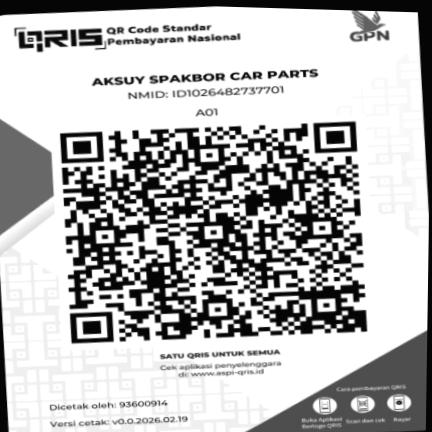Cara Pakai QRIS: (294, 382, 417, 432)
Cek Aplikasi Penyelenggara: (154, 358, 286, 382)
Dicetak Oleh: (43, 395, 174, 413)
Logo GPN: (337, 10, 401, 49)
Logo dan deskripsi QRIS: (5, 14, 246, 55)
Nama Merchant: (85, 66, 326, 89)
National Merchant ID: (119, 83, 292, 101)
QR Code: (50, 115, 375, 349)
Slogan: (153, 346, 285, 362)
Terminal ID: (192, 105, 225, 118)
Versi Cetak: (43, 412, 193, 430)
